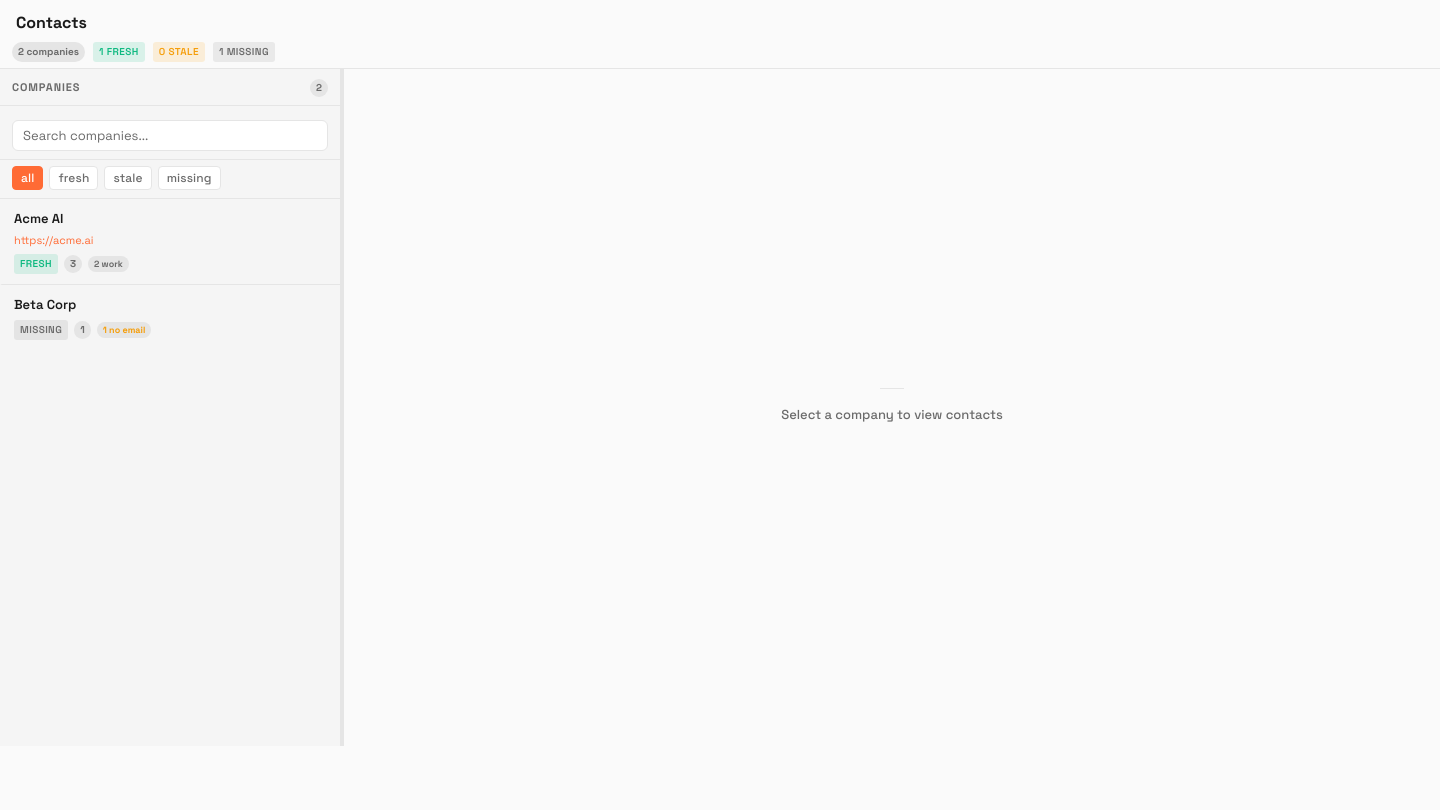
Test: ContactsWorkspacePage › shows bounced work email status without marking contact invalid
Click the text "Acme AI": coordinates (39, 218) [14,210,63,227]
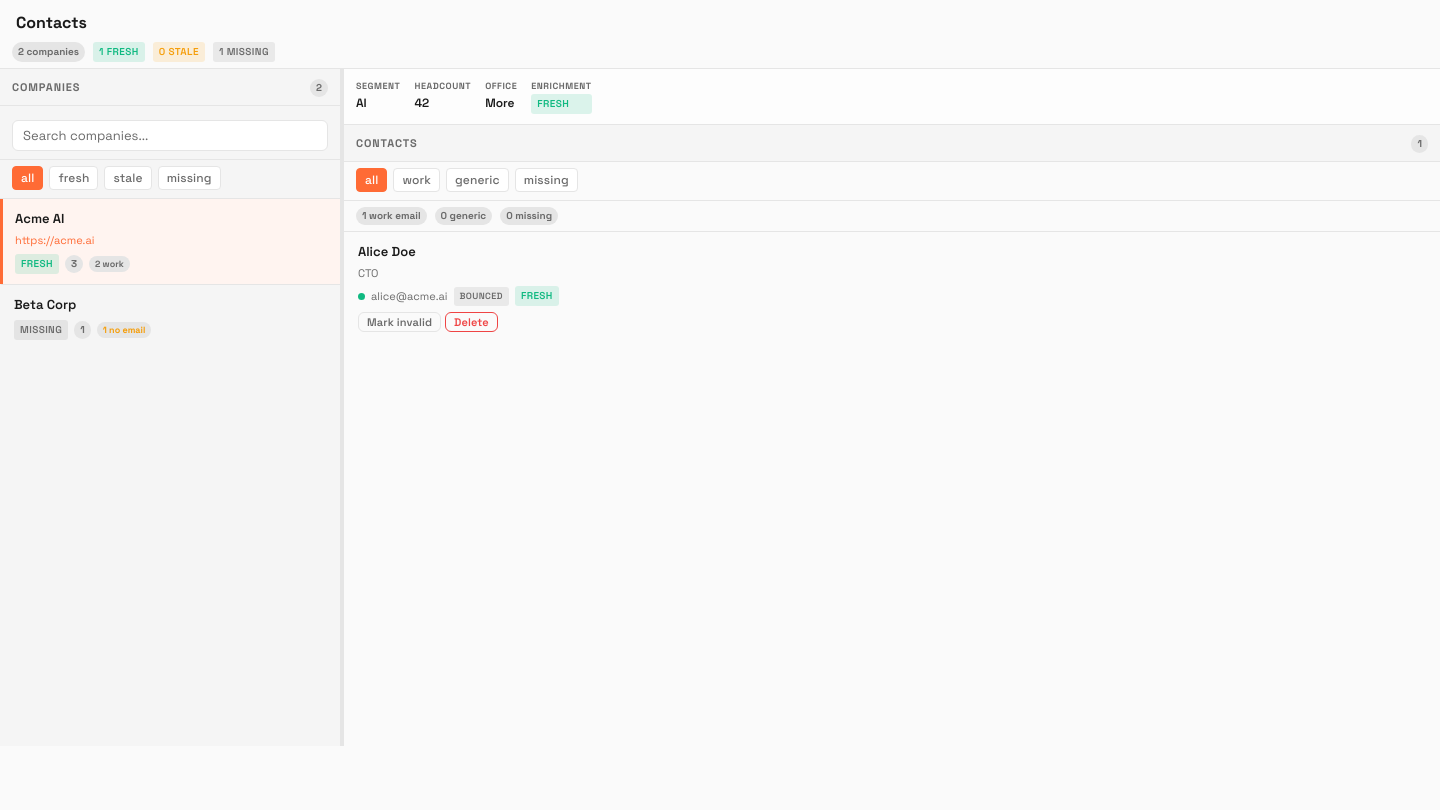
Expected: the text "Alice Doe" is shown, [358,243,416,260]
Expected: the text "bounced" is shown, [454,287,509,306]
